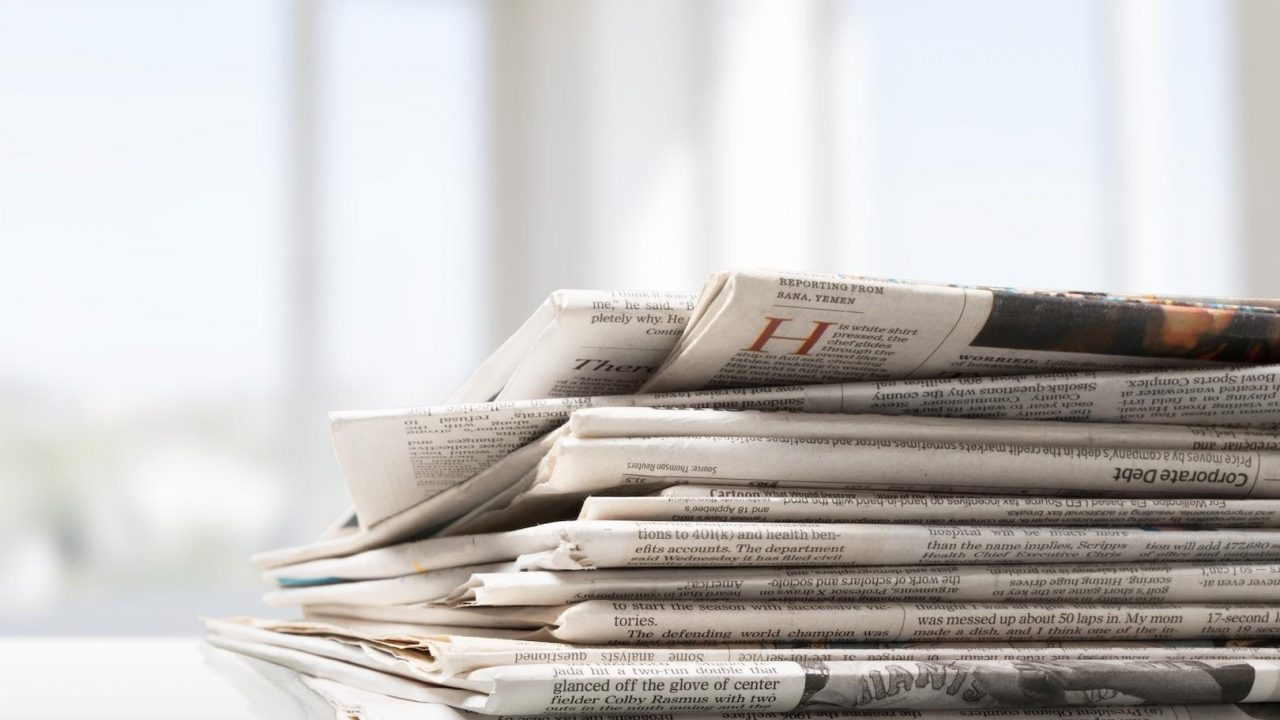Rec_Paper: (194, 255, 1280, 720)
